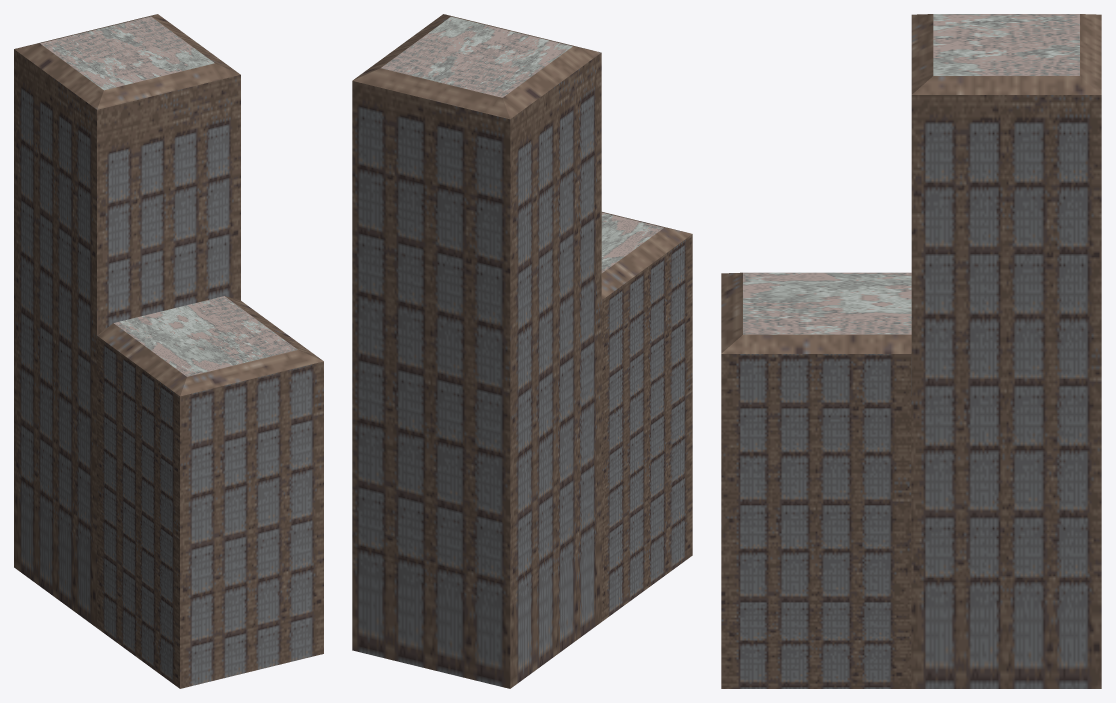
The model's file is Edificio7.fbx.
The picture shows the model from 3 angles, left to right: view 1: azimuth 30°, elevation 25°; view 2: azimuth 150°, elevation 25°; view 3: azimuth 270°, elevation 25°; orthographic projection. The views are drawn at different scales.
Visible parts, largest first — view 1: Cube.003; view 2: Cube.003; view 3: Cube.003.
Boxes of the visible parts, box(x1,y1,x2,y2) form: Cube.003: box(14, 14, 323, 688); Cube.003: box(352, 14, 692, 688); Cube.003: box(721, 14, 1101, 688).
Size of the model in its own units: 200 by 700 by 400.
2 materials, 2 textured.
